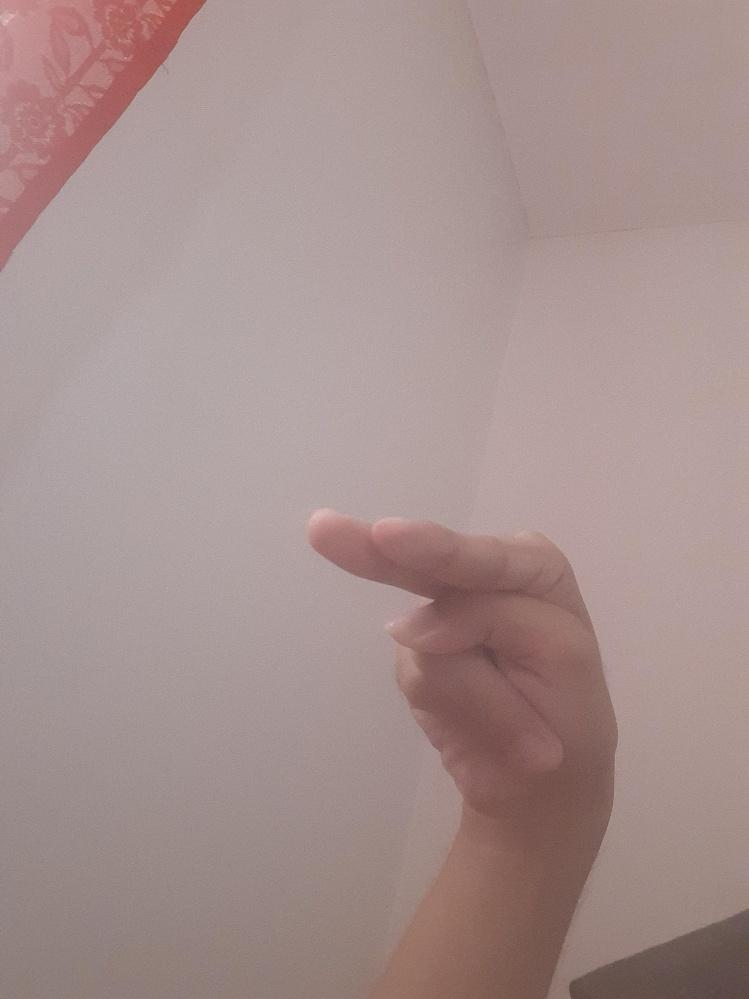n: (304, 506, 617, 802)
